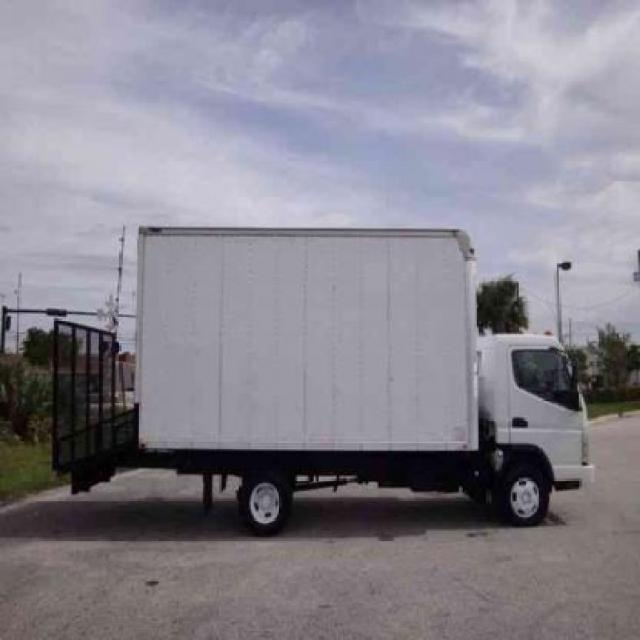truck: (50, 216, 598, 519)
